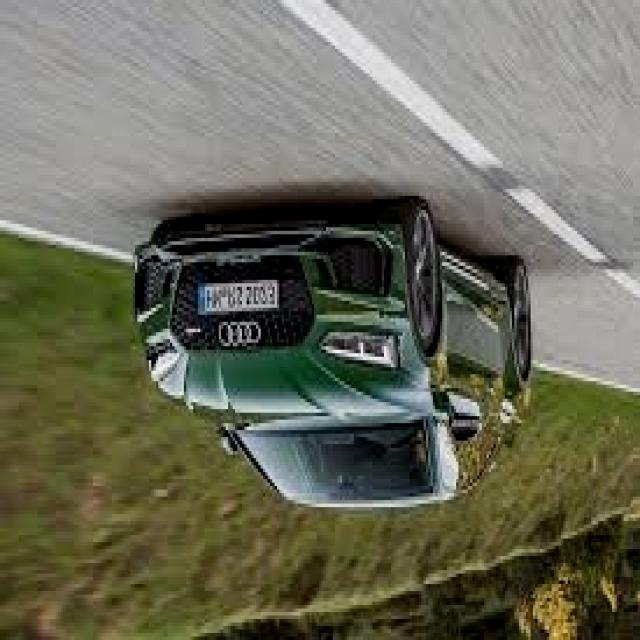green: (110, 196, 540, 509)
